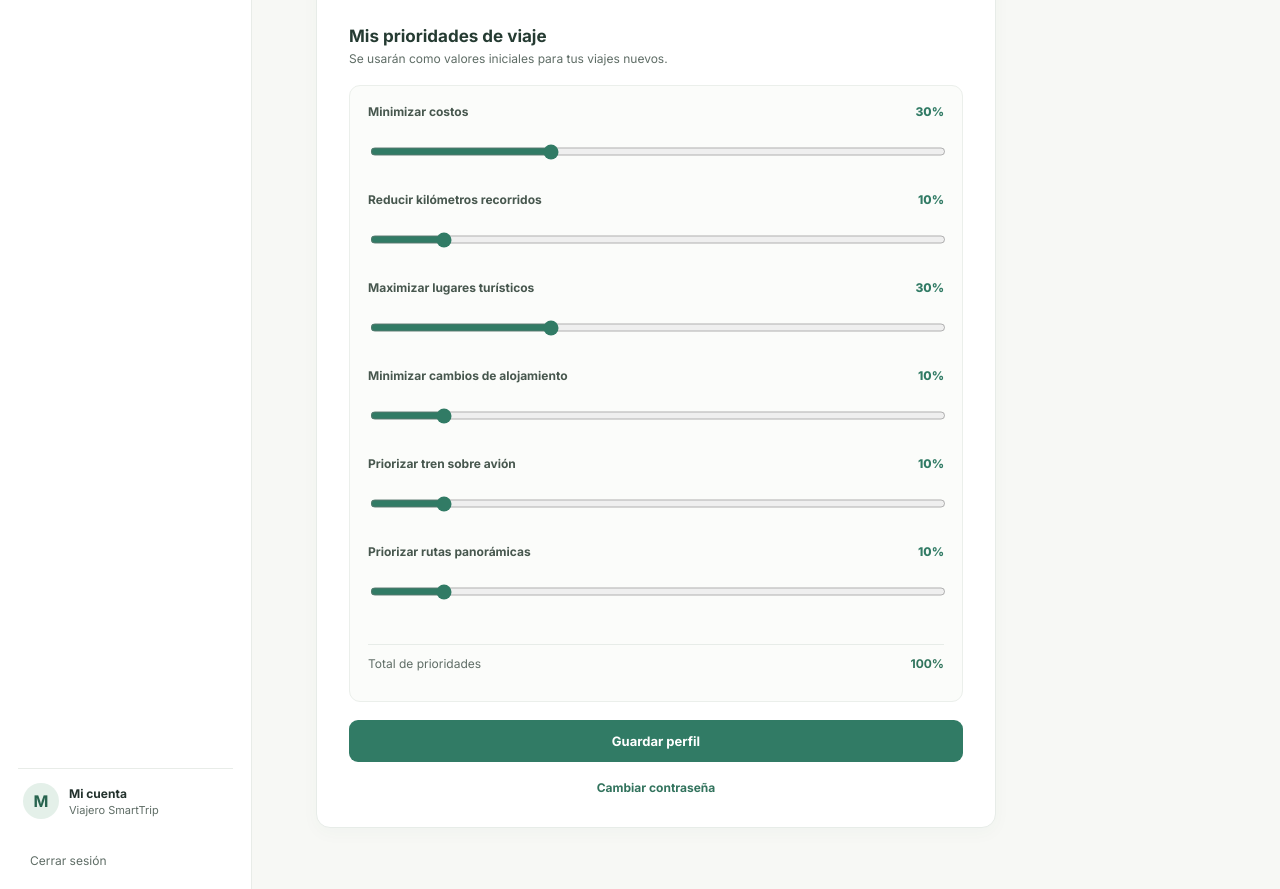
Test: Profile › muestra el error aunque el servidor no indique campos
The width and height of the screenshot is (1280, 889).
(page scrolled)
Click the button "Guardar perfil". click: coordinates (656, 741)
box: [349,720,963,762]
(page scrolled)
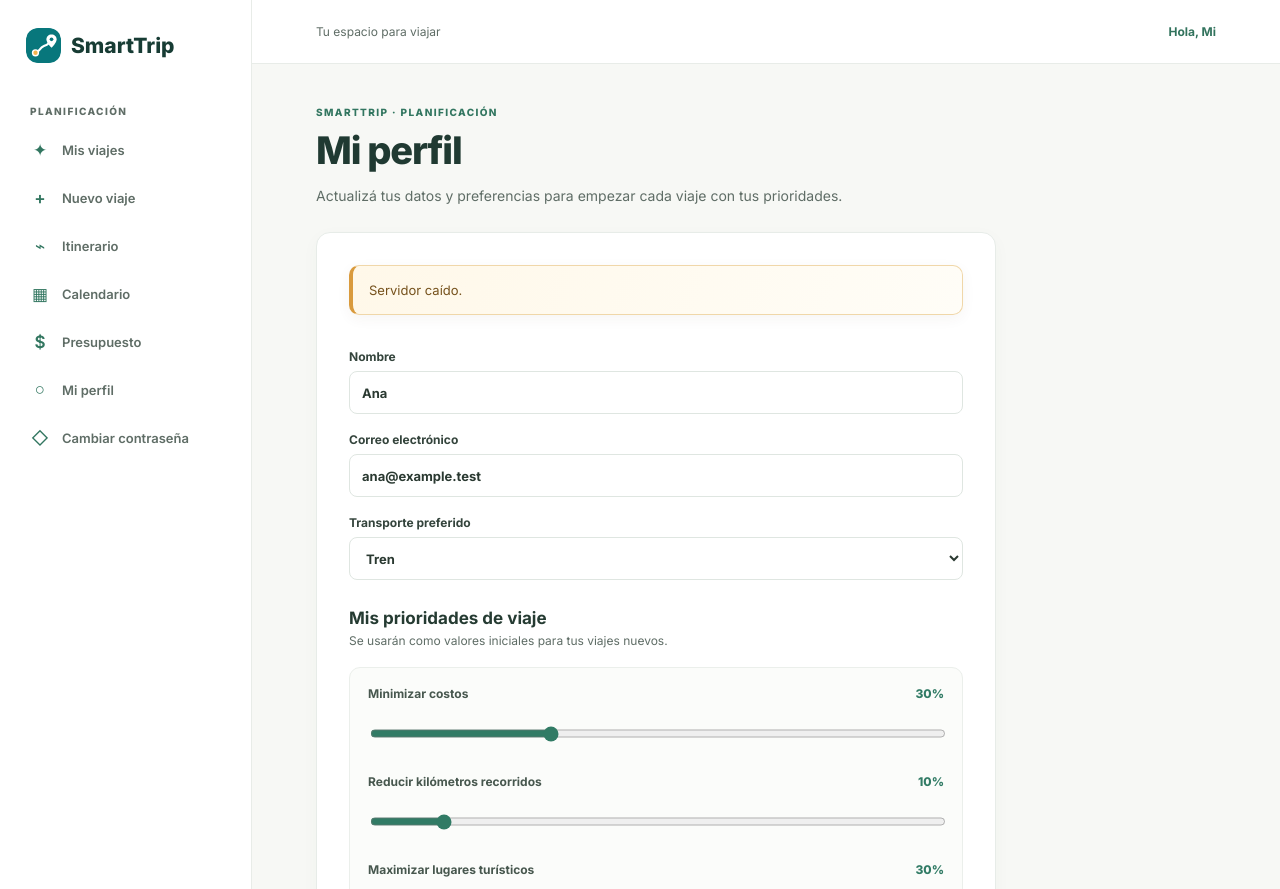
Expected: the message reads "Servidor caído.", [369,282,462,298]
